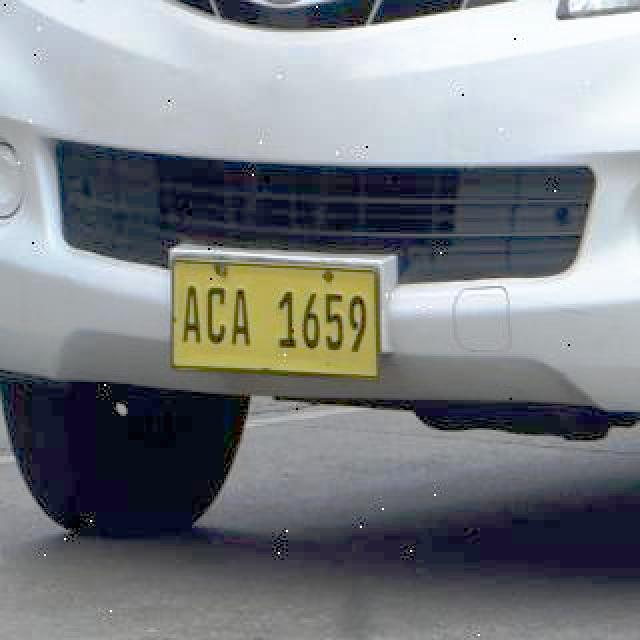license_plate: (160, 251, 390, 393)
